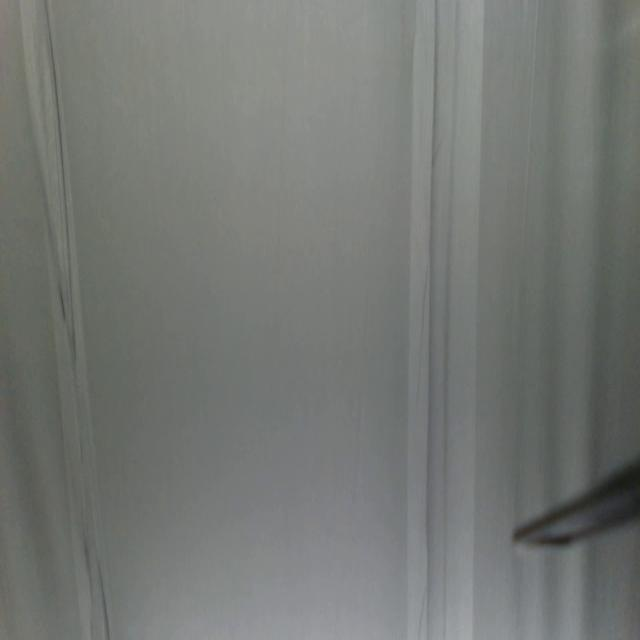crease: (21, 0, 113, 640), (406, 0, 464, 637), (516, 0, 542, 248)
